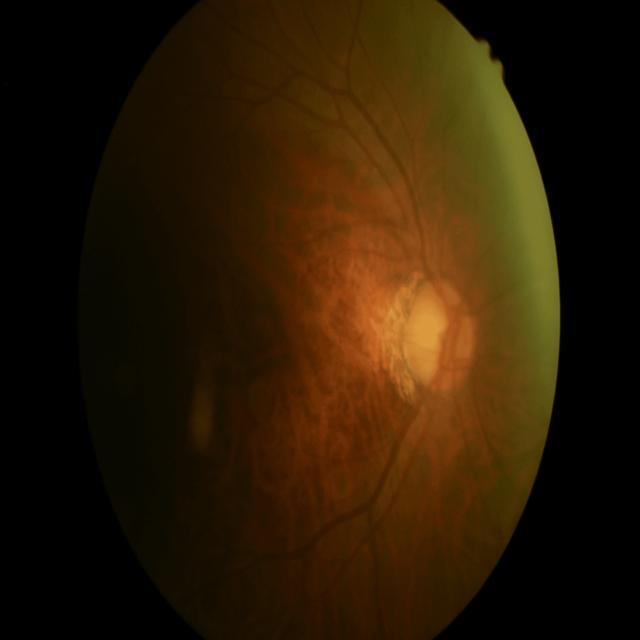cup: (406, 297, 458, 383)
disk: (403, 275, 478, 394)
